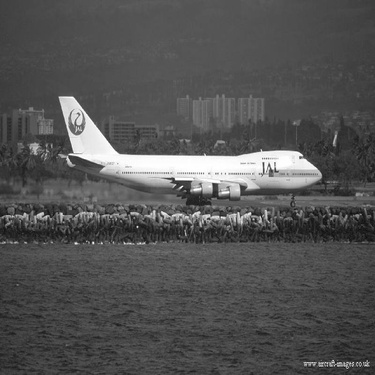airplane: (29, 67, 343, 232)
